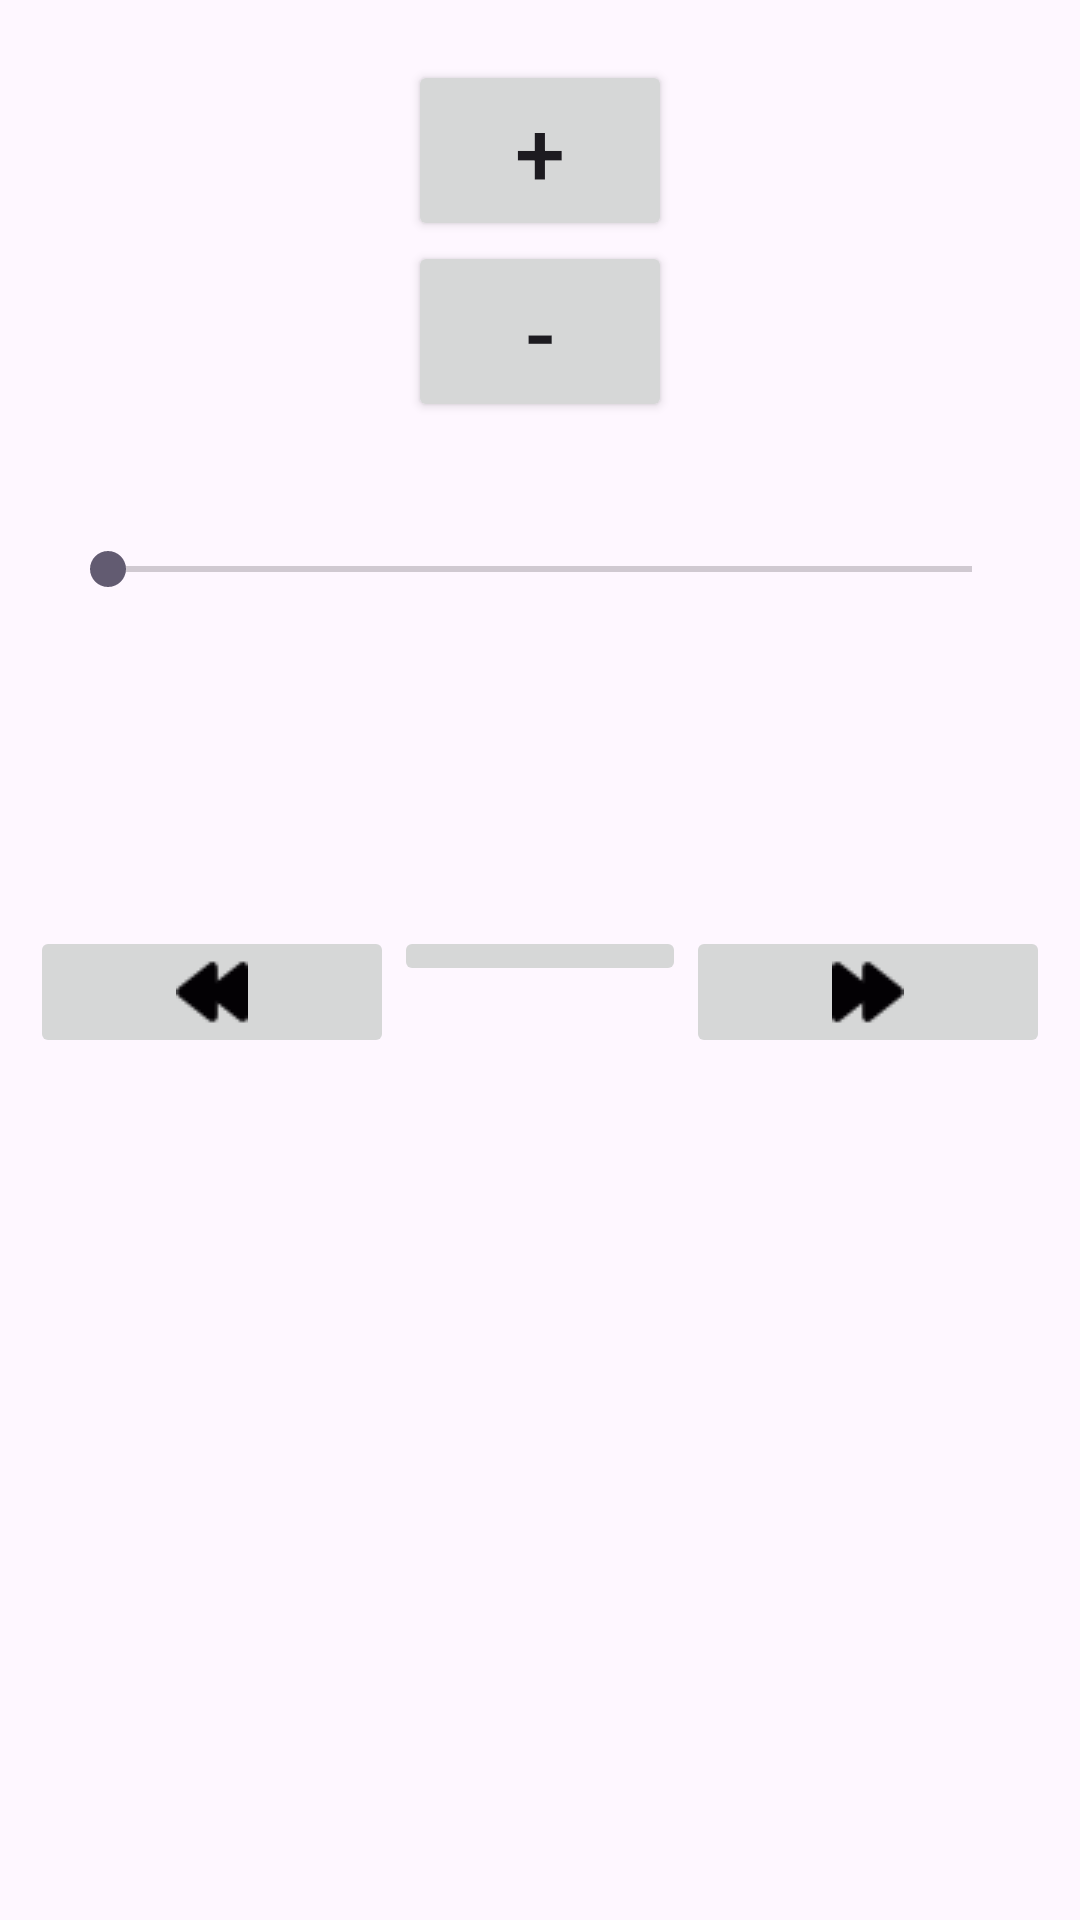

Icons on this 1080 × 1920 Android screen, each with its box as (x1, y1, x2, y2):
back: (42, 944, 382, 1040)
next: (698, 944, 1038, 1040)
